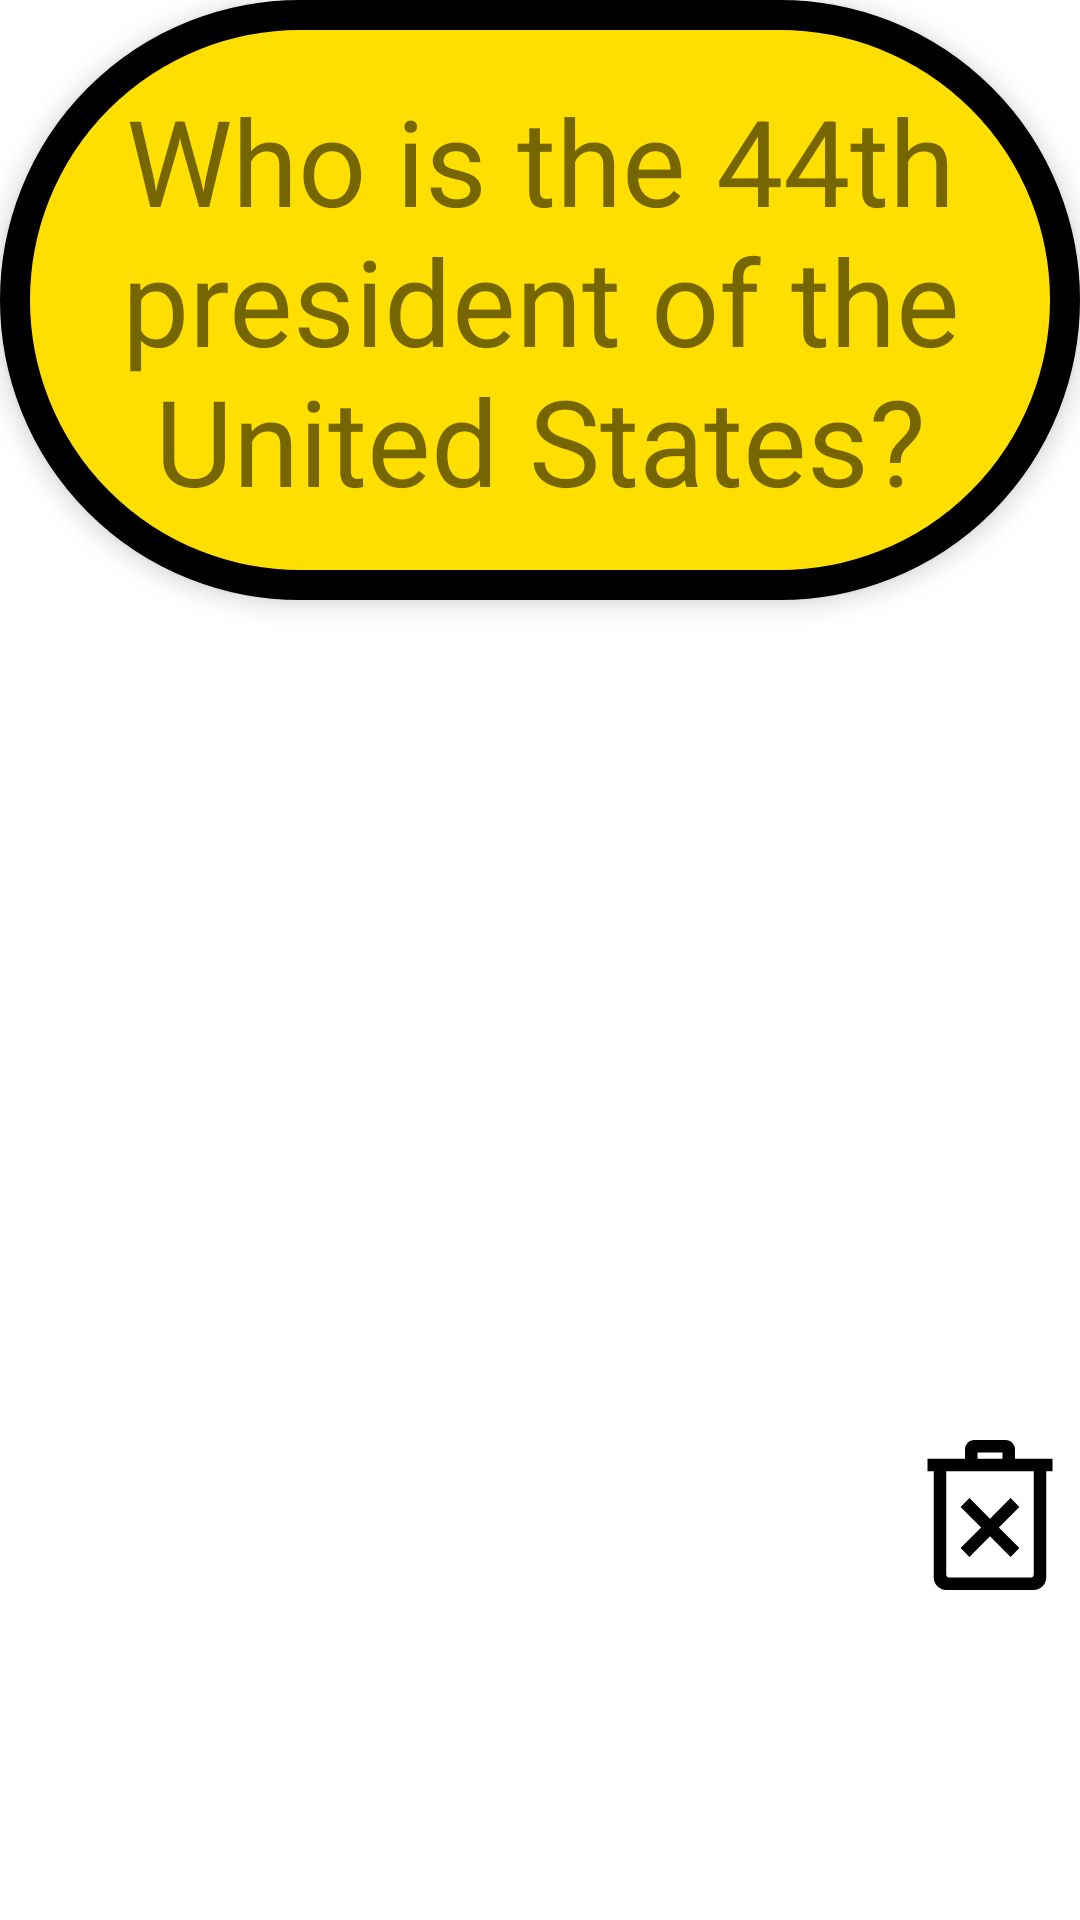

Icon bounding boxes for this 1080px x 1920px phone screenshot, format [x1,y1,x2,y2]:
iconmonstr trash can: [927,1440,1053,1590]
